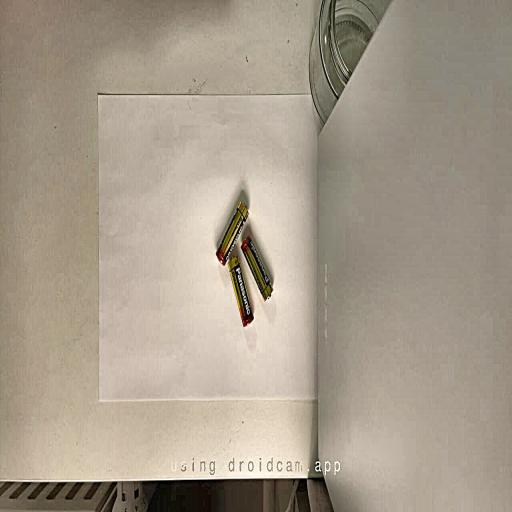PanasonicAA: (216, 201, 248, 265), (242, 235, 273, 300), (228, 256, 253, 326)
